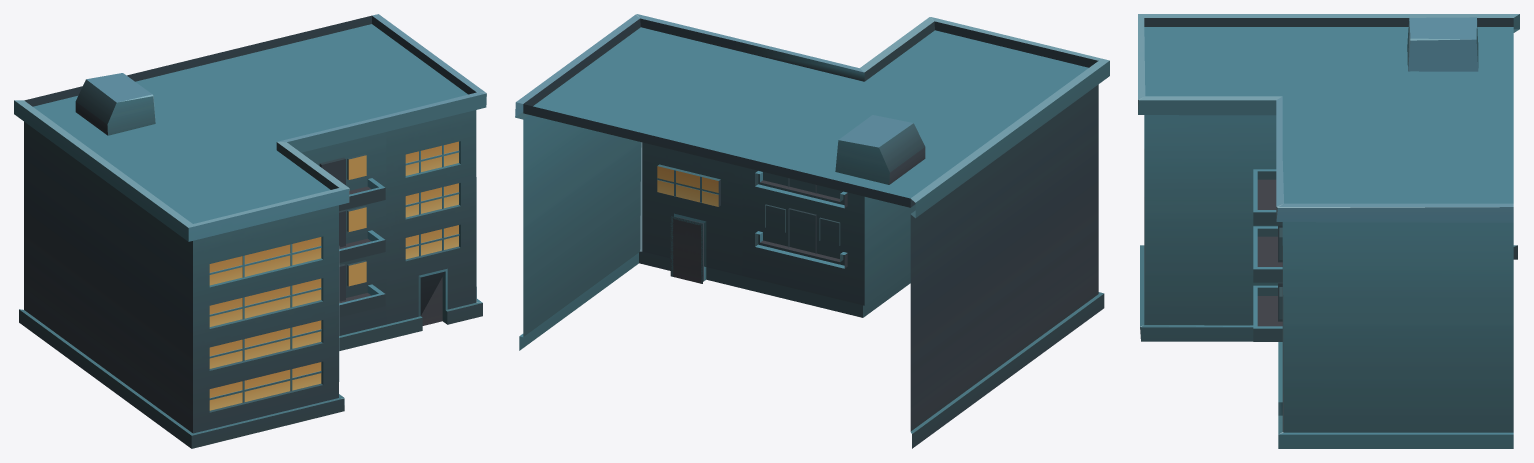
Rendered from SM_Building_9.fbx.
3 views of the same model, side by side, from view 1: azimuth 30°, elevation 25°; view 2: azimuth 150°, elevation 25°; view 3: azimuth 270°, elevation 25° (orthographic). The views are drawn at different scales.
Visible parts, largest first — view 1: SM_Building_9; view 2: SM_Building_9; view 3: SM_Building_9.
Part boxes in pixels (x1=…): SM_Building_9: x1=14, y1=14, x2=486, y2=448; SM_Building_9: x1=515, y1=14, x2=1109, y2=448; SM_Building_9: x1=1138, y1=14, x2=1519, y2=448.
Bounding box in the file's own units: 2114 × 1366 × 1763.
